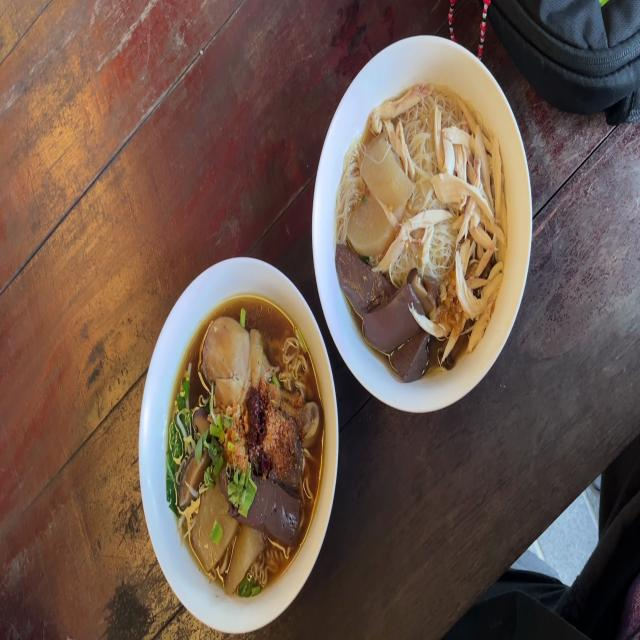boiled_chicken_blood_jelly: (358, 280, 417, 348), (248, 470, 300, 546), (334, 250, 378, 308), (390, 331, 432, 378), (289, 424, 304, 492)
chicken_drumstick: (200, 318, 320, 441)
chicken_shredded: (434, 107, 506, 335), (388, 210, 452, 272), (372, 84, 432, 126)
daikon_radish: (362, 130, 406, 206), (193, 482, 234, 557), (346, 198, 389, 252), (236, 527, 260, 588)
noodle: (336, 83, 509, 381), (166, 296, 330, 589)
